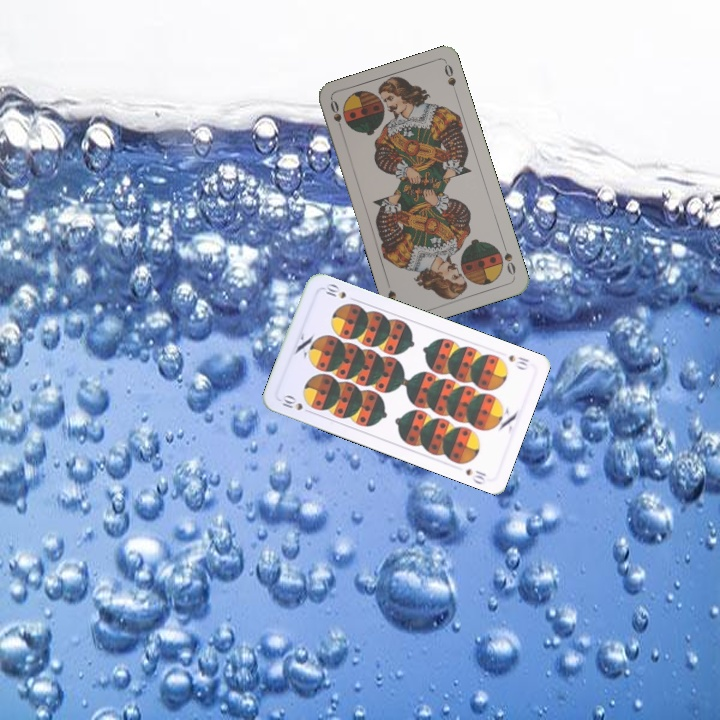S10: (276, 391, 315, 416), (505, 351, 531, 372)
SO: (326, 96, 346, 136), (499, 240, 518, 279)
